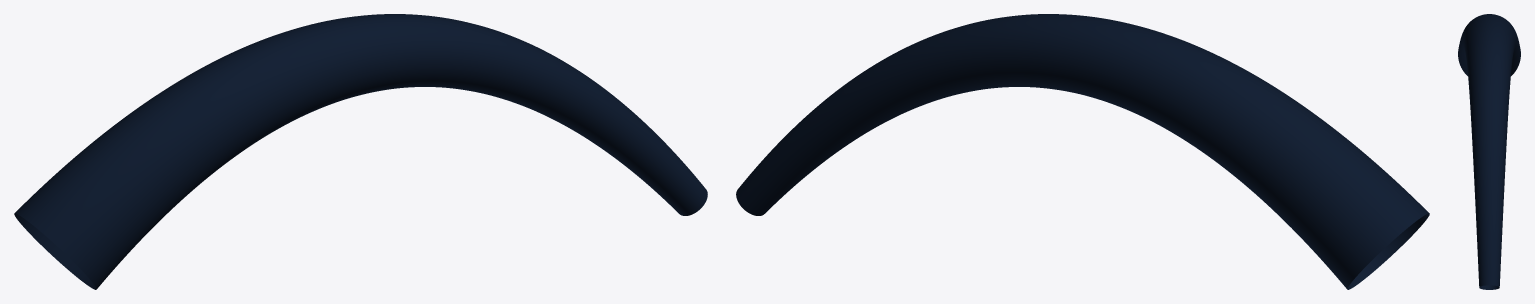
File: defaultLeftBrow.dae
3 views of the same model, side by side, from view 1: azimuth 30°, elevation 25°; view 2: azimuth 150°, elevation 25°; view 3: azimuth 270°, elevation 25° (orthographic). The views are drawn at different scales.
Parts seen in each view (by area): view 1: LeftBrow; view 2: LeftBrow; view 3: LeftBrow.
Part boxes in pixels (x1=…): LeftBrow: x1=14, y1=14, x2=707, y2=289; LeftBrow: x1=736, y1=14, x2=1429, y2=289; LeftBrow: x1=1458, y1=14, x2=1520, y2=289.
Bounding box in the file's own units: 27.78 × 10.74 × 3.97.
